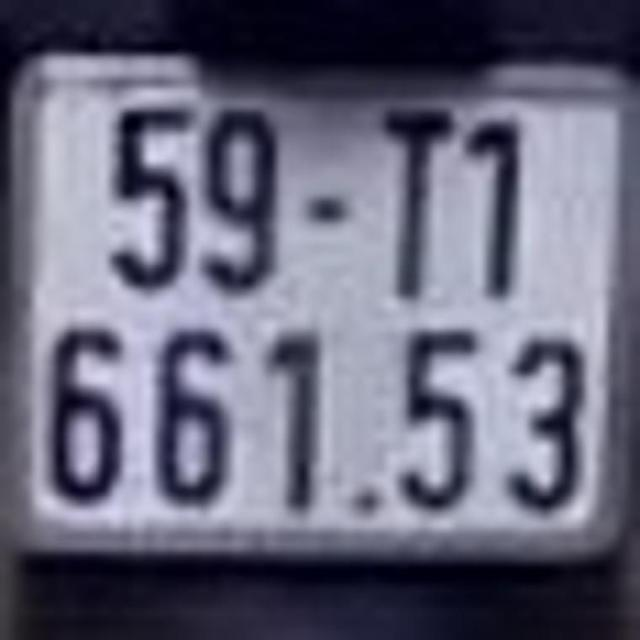1: (465, 110, 525, 300), (264, 323, 323, 512)
3: (506, 327, 586, 515)
5: (107, 100, 194, 292), (401, 321, 479, 512)
6: (46, 319, 126, 506), (157, 320, 233, 507)
9: (202, 103, 280, 296)
T: (380, 103, 456, 298)
